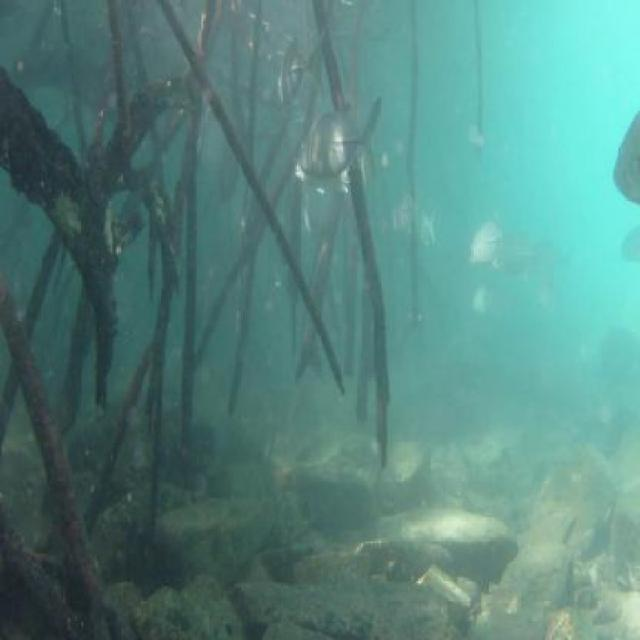Caranx_sexfasciatus_juvenile: (295, 99, 382, 204), (597, 96, 640, 204), (268, 35, 327, 102), (382, 180, 433, 257), (489, 224, 536, 291), (528, 224, 568, 293), (465, 209, 497, 282), (459, 276, 498, 335), (607, 217, 640, 280)
